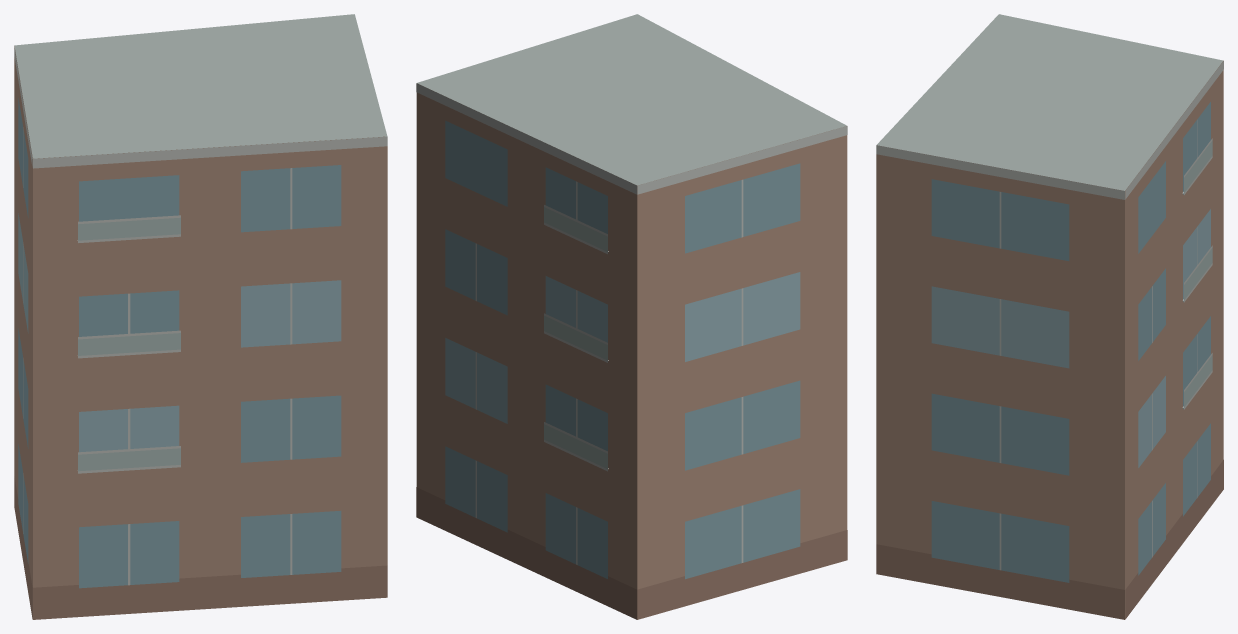
File: survey-upis-32472264.glb
The picture shows the model from 3 angles, left to right: view 1: azimuth 30°, elevation 25°; view 2: azimuth 150°, elevation 25°; view 3: azimuth 270°, elevation 25°; orthographic projection. The views are drawn at different scales.
Parts seen in each view (by area): view 1: survey-upis-32472264.tmp; view 2: survey-upis-32472264.tmp; view 3: survey-upis-32472264.tmp.
Boxes of the visible parts, x1=… form: survey-upis-32472264.tmp: x1=14, y1=14, x2=387, y2=619; survey-upis-32472264.tmp: x1=416, y1=14, x2=847, y2=619; survey-upis-32472264.tmp: x1=876, y1=14, x2=1223, y2=619.
Size of the model in its own units: 10.18 by 11.5 by 8.45.
